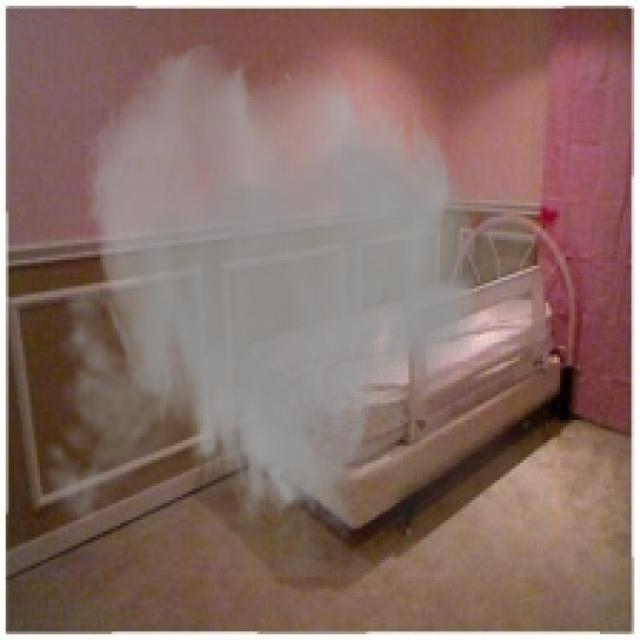smoke: (29, 40, 552, 577)
